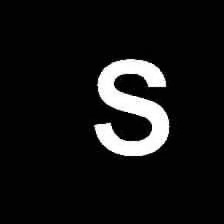LTR_S: (89, 54, 174, 159)
